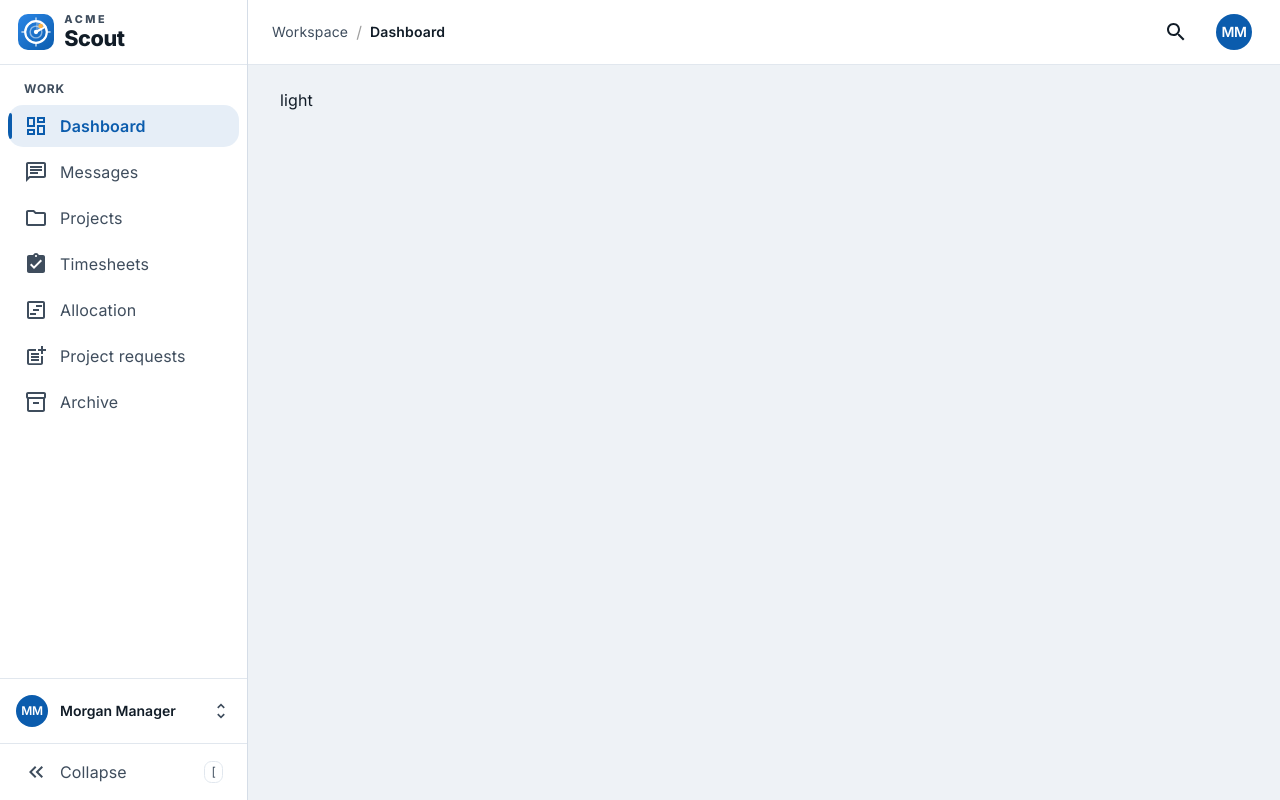
Test case: colour theme › works when the browser blocks storage (private mode)
Expected: the text with test id "mode" reads "light", 280,90 -> 313,110
Click the button with aria-label "Account menu" at (1234, 32), box 1212,10 -> 1256,54
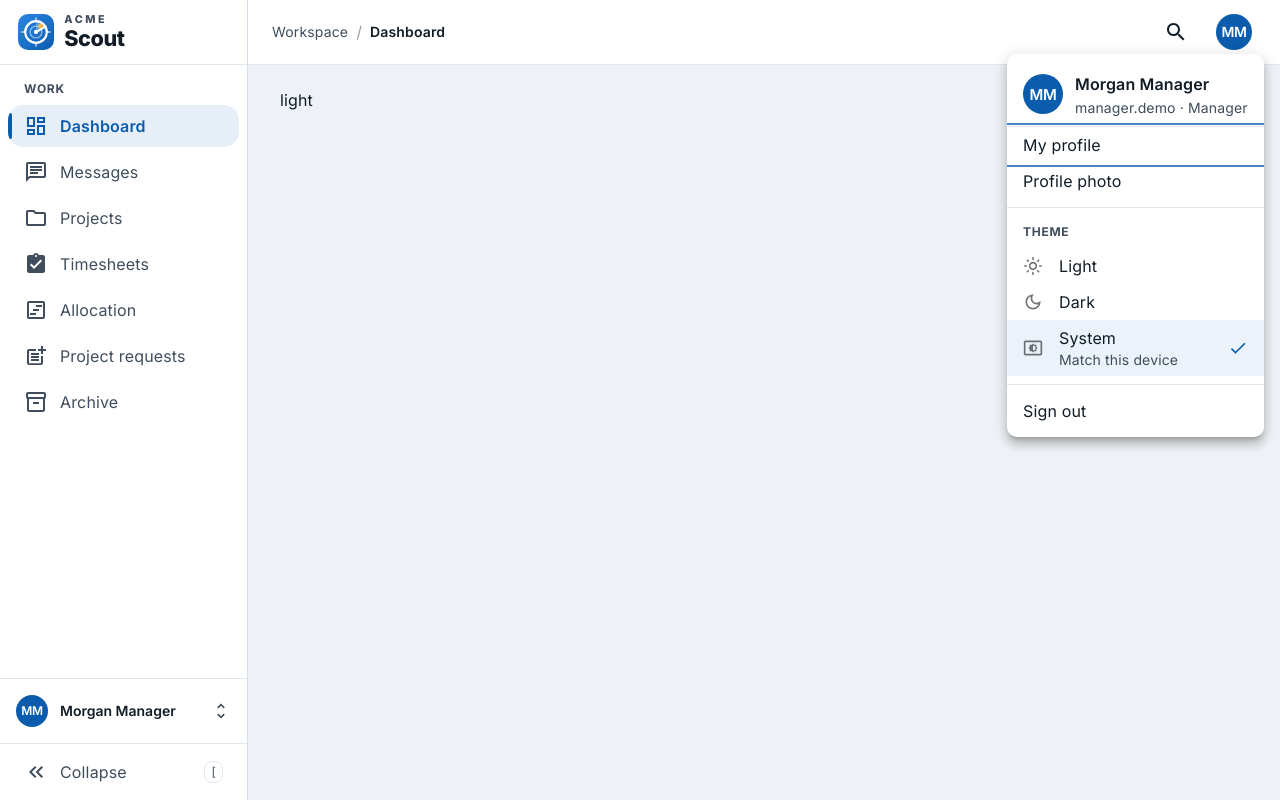
Click the menu item "Dark" at (1059, 302), box 1023,292 -> 1095,312
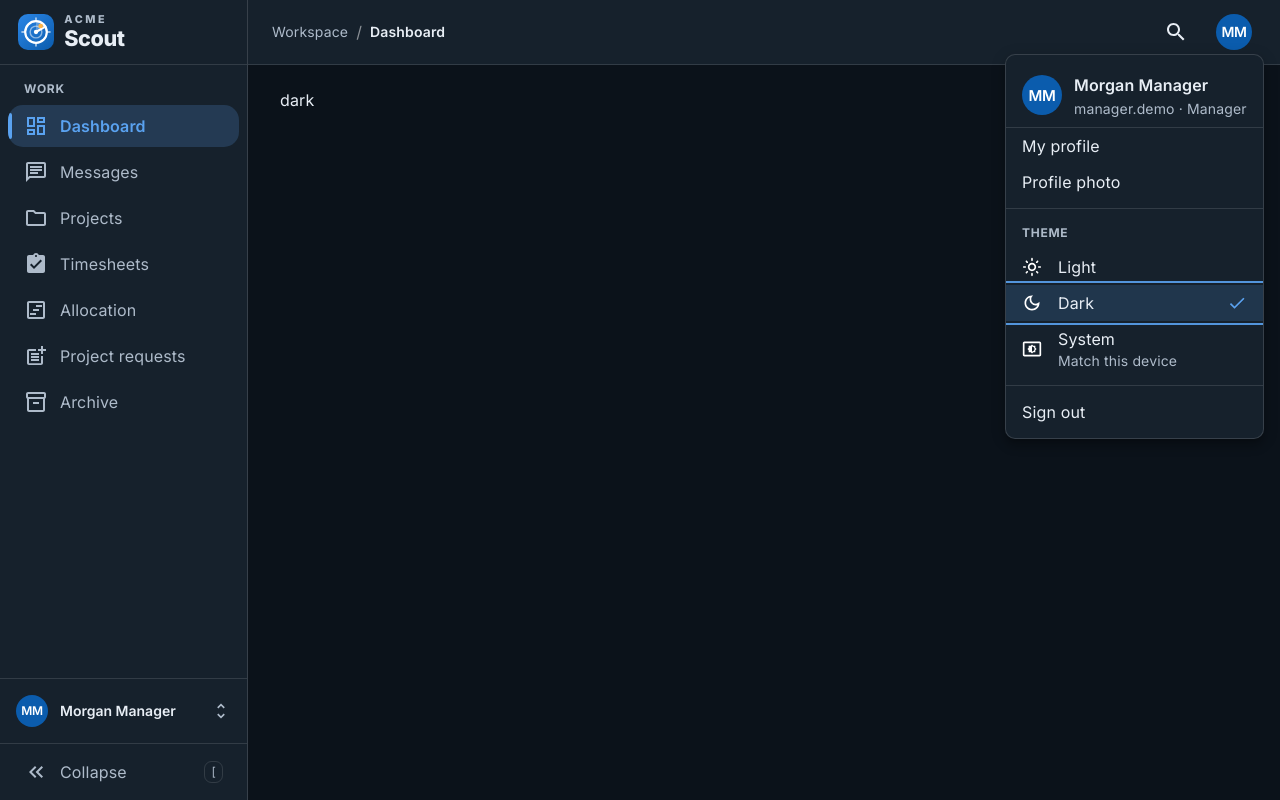
Expected: the text with test id "mode" reads "dark", 280,90 -> 314,110
